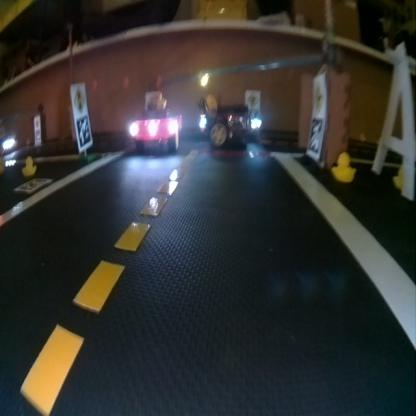Duckie: (332, 152, 354, 181), (21, 155, 36, 175), (153, 92, 166, 110)
Duckiebot: (198, 99, 250, 146), (130, 113, 181, 149)
Intersection sign: (313, 74, 323, 115), (247, 92, 258, 107)
QR code: (308, 116, 322, 155), (76, 114, 92, 148), (15, 178, 48, 192)
Signal sign: (71, 83, 86, 112)
Traffic light: (198, 71, 209, 86)
